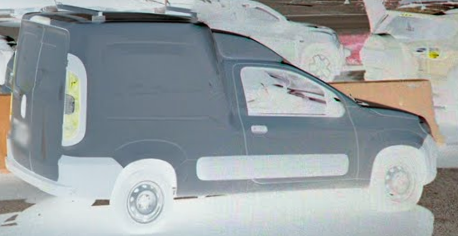car: (10, 10, 438, 228)
